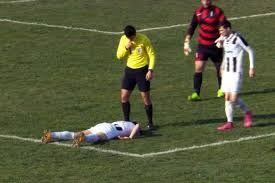down: (38, 117, 147, 153)
up: (109, 19, 163, 134), (176, 1, 232, 105), (211, 15, 260, 133)
